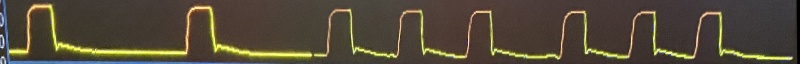normal_pressure: (4, 0, 784, 64)
